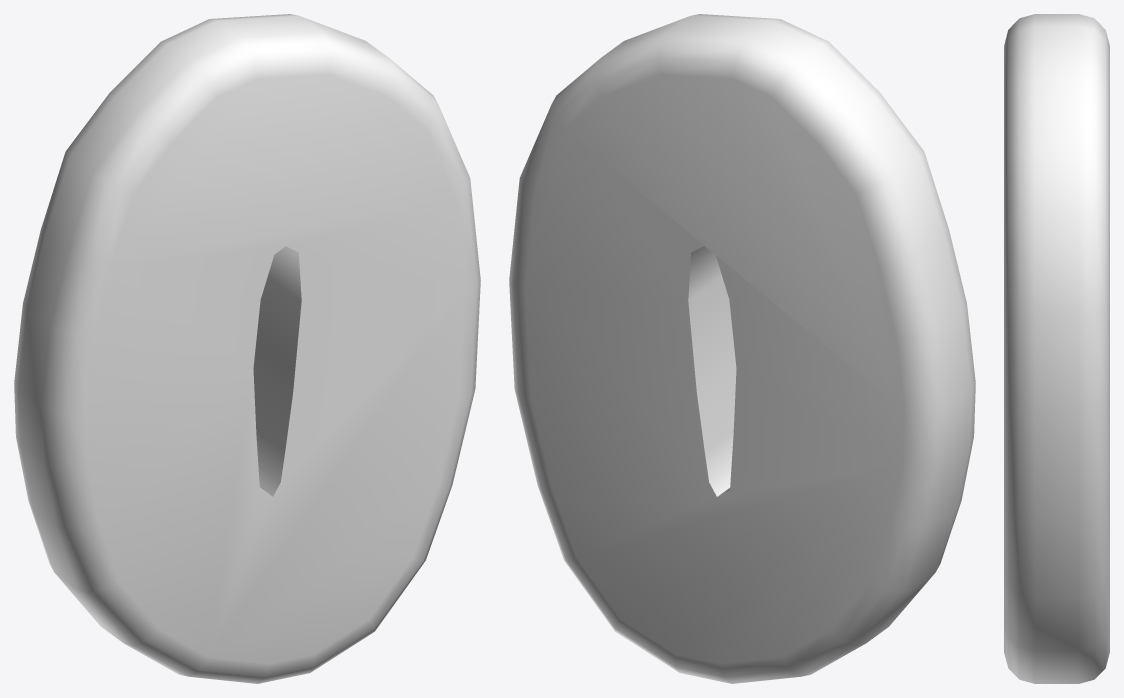
Rendered from NumberZero 1.fbx.
3 renders of one model, left to right at view 1: azimuth 30°, elevation 25°; view 2: azimuth 150°, elevation 25°; view 3: azimuth 270°, elevation 25°, orthographic. The views are drawn at different scales.
Visible parts, largest first — view 1: Vert.006; view 2: Vert.006; view 3: Vert.006.
Part boxes in pixels (x1,y1,x2,y2): Vert.006: (14,14,480,683); Vert.006: (509,14,975,683); Vert.006: (1004,14,1109,683).
Size of the model in its own units: 229 by 326 by 50.18.
